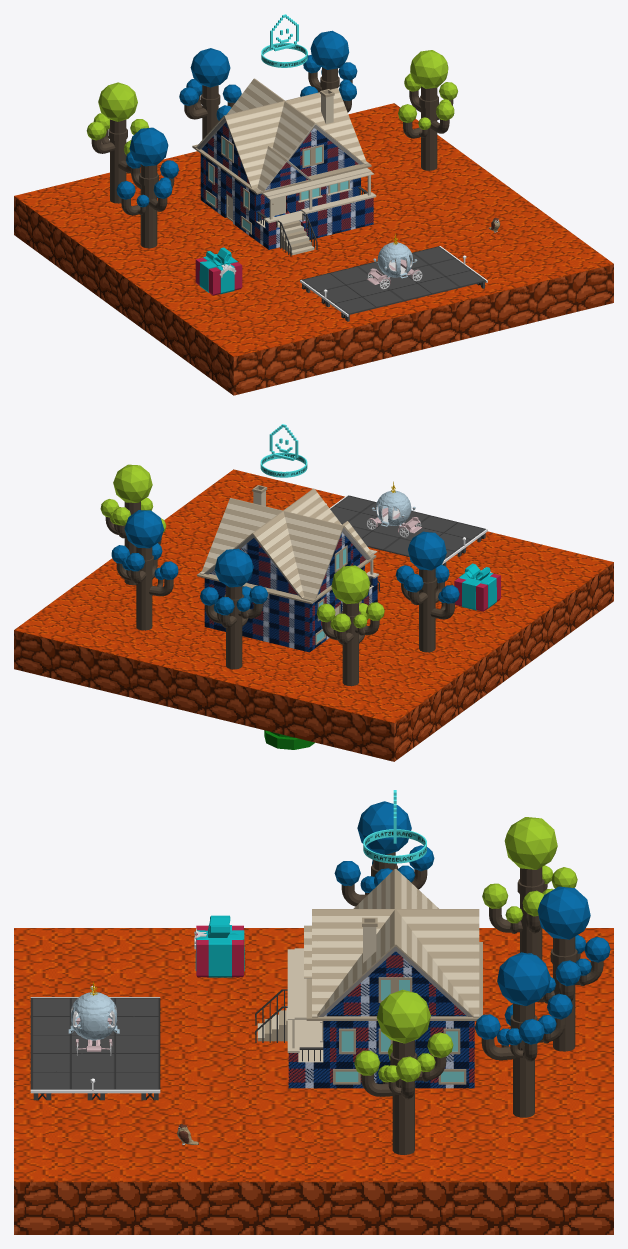
The picture shows the model from 3 angles, top to bottom: view 1: azimuth 30°, elevation 25°; view 2: azimuth 150°, elevation 25°; view 3: azimuth 270°, elevation 25°; orthographic projection. The views are drawn at different scales.
Parts seen in each view (by area): view 1: Cube.001, Cube.171, OBJRANDOM_GIANT_PRESENT, VEHICLES_FANTASY_CARRIAGE, TYPE_PREMIUM; view 2: Cube.001, Cube.171, OBJRANDOM_GIANT_PRESENT, VEHICLES_FANTASY_CARRIAGE, TYPE_PREMIUM, UNDERGROUND_PIPES; view 3: Cube.001, Cube.171, OBJRANDOM_GIANT_PRESENT, VEHICLES_FANTASY_CARRIAGE, TYPE_PREMIUM.
Boxes of the visible parts, x1,y1,x2,y2 form: Cube.001: (14,30,613,395); Cube.171: (192,78,376,256); OBJRANDOM_GIANT_PRESENT: (195,247,242,295); VEHICLES_FANTASY_CARRIAGE: (367,233,422,289); TYPE_PREMIUM: (261,14,307,67); Cube.001: (14,464,613,761); Cube.171: (197,485,379,652); OBJRANDOM_GIANT_PRESENT: (454,563,500,611); VEHICLES_FANTASY_CARRIAGE: (366,481,421,537); TYPE_PREMIUM: (260,424,307,477); UNDERGROUND_PIPES: (264,730,314,749); Cube.001: (14,801,613,1234); Cube.171: (255,869,482,1088); OBJRANDOM_GIANT_PRESENT: (194,915,244,977); VEHICLES_FANTASY_CARRIAGE: (68,981,119,1055); TYPE_PREMIUM: (363,790,426,863).
Size of the model in its own units: 4000 by 2993 by 4000.
30 materials, 6 textured.
